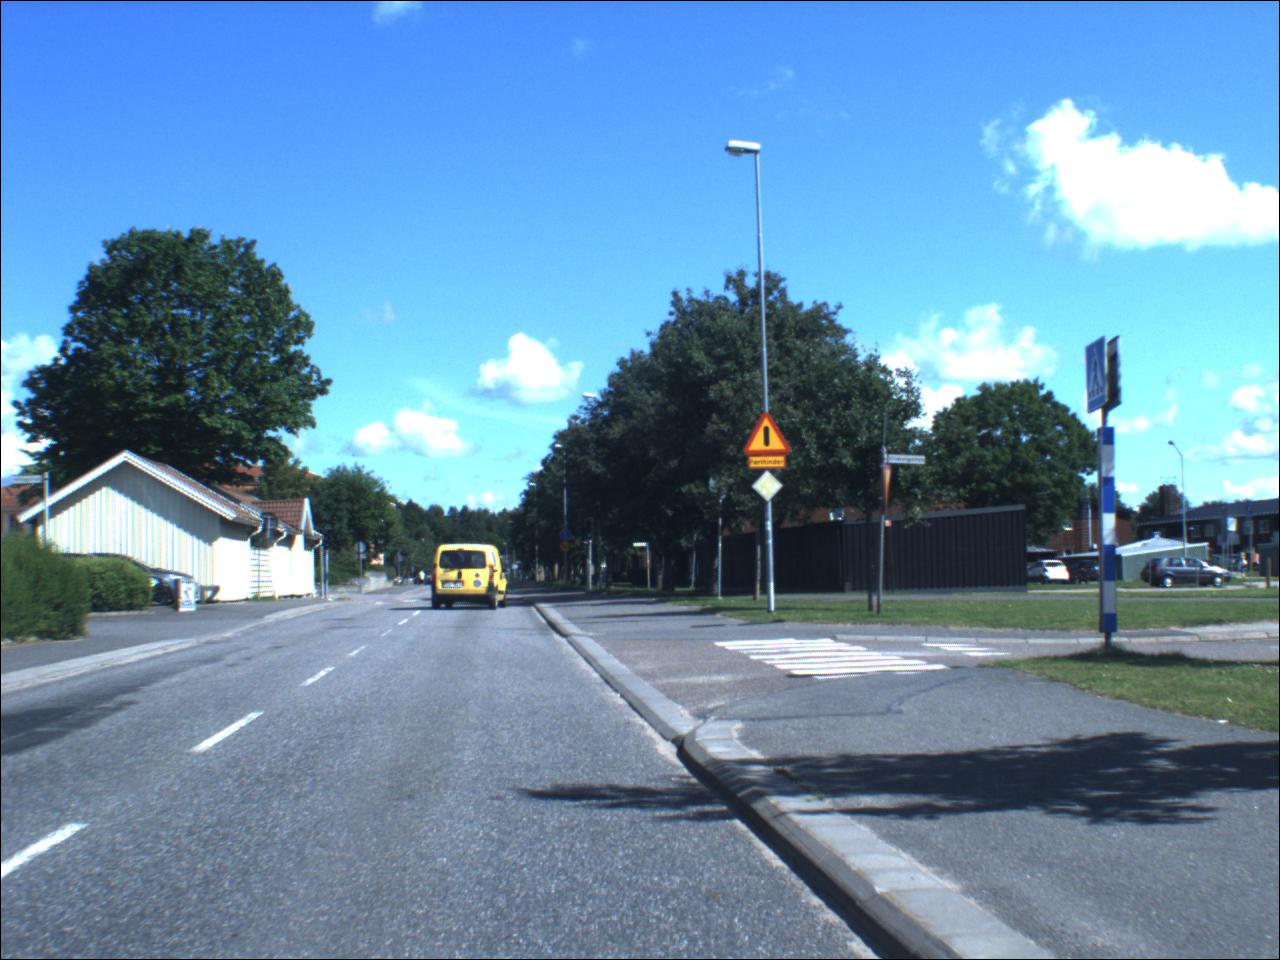50_SIGN: (561, 543, 573, 554)
GIVE_WAY: (884, 464, 895, 513)
PEDESTRIAN_CROSSING: (1085, 339, 1110, 407)
PRIORITY_ROAD: (752, 471, 787, 507)
WARNING_DANGER: (746, 412, 793, 460)
